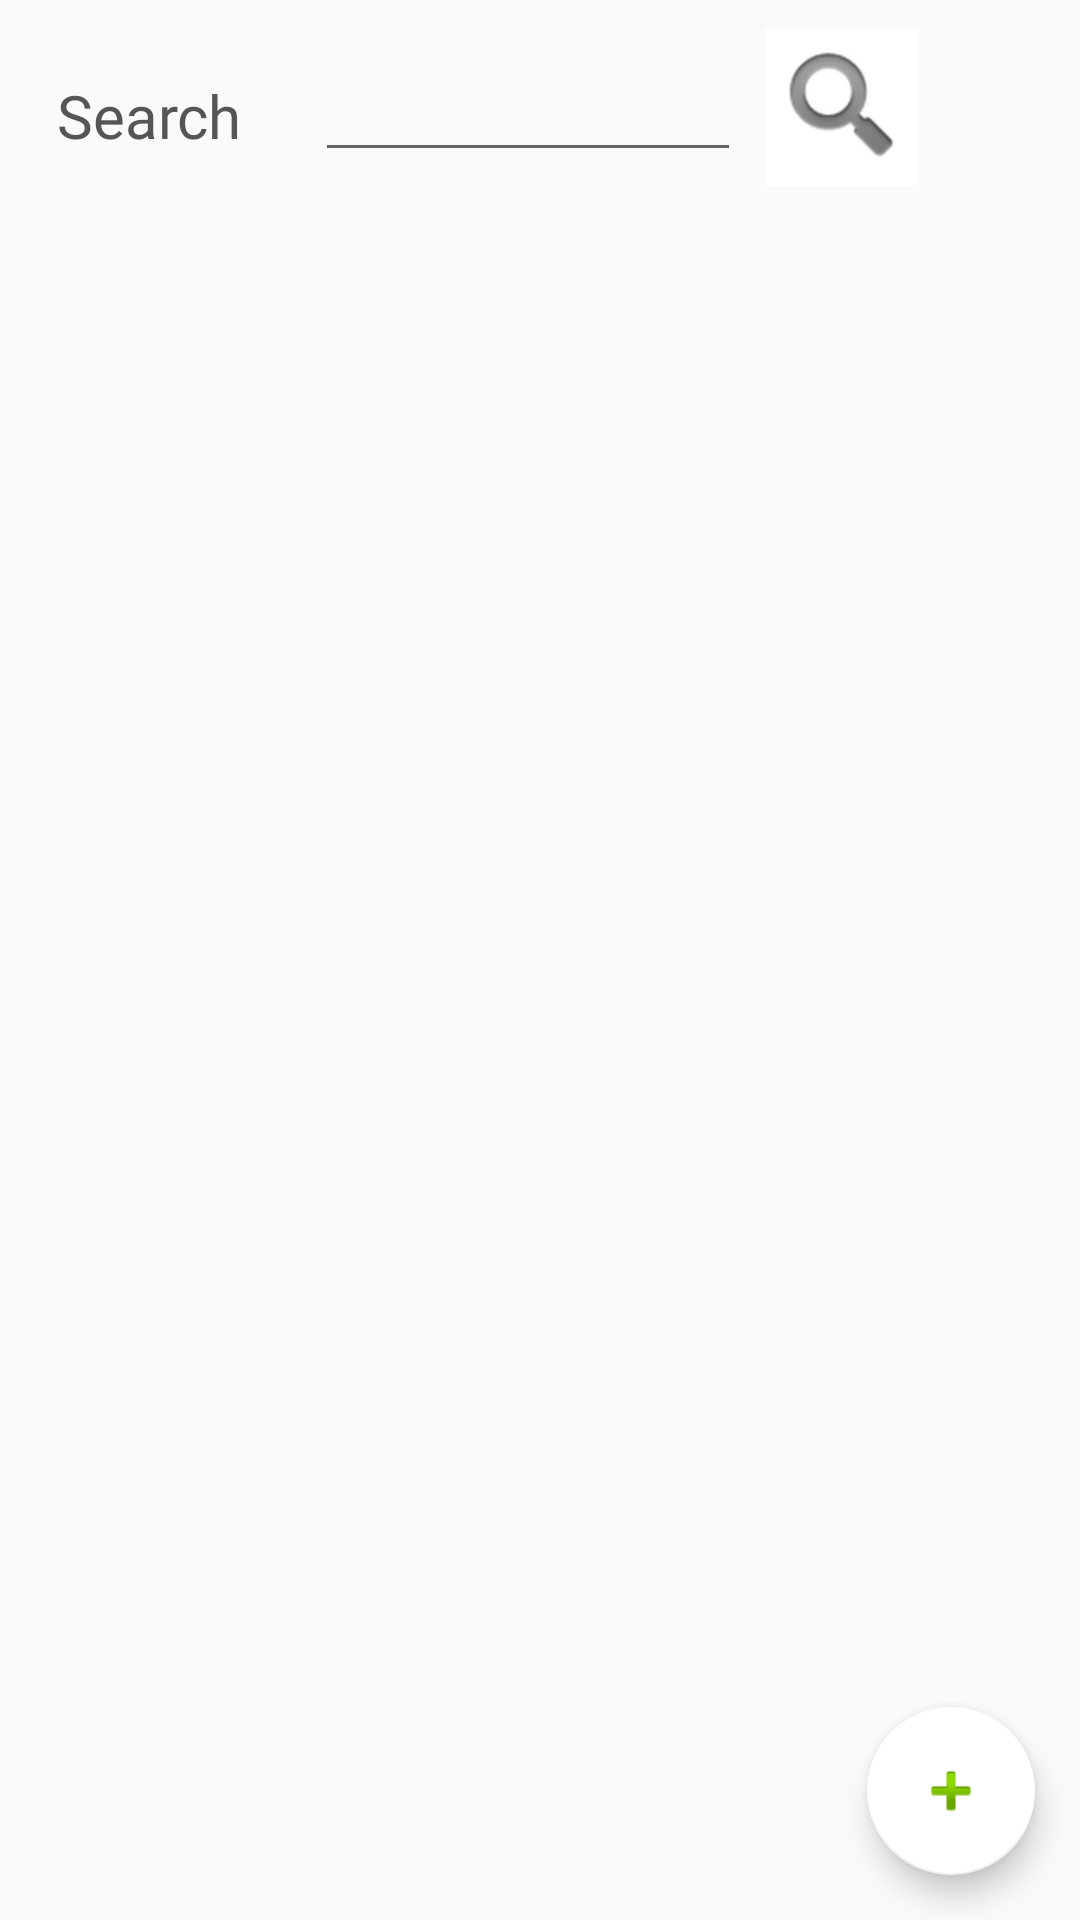

Where icons sit on this 1080px×1920px app screen, as (x1, y1, x2, y2):
search category: (789, 52, 893, 156)
